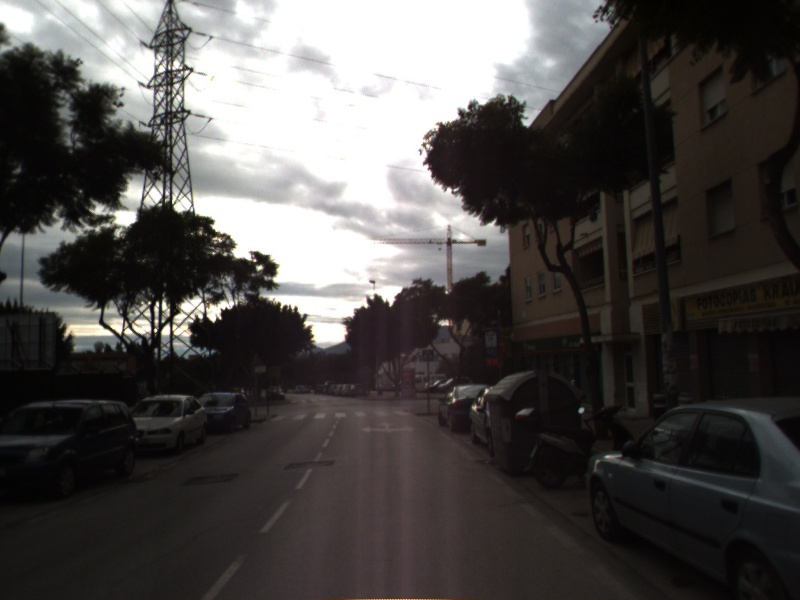STRAIGHT_LEFT_RIGHT: (359, 419, 417, 435)
